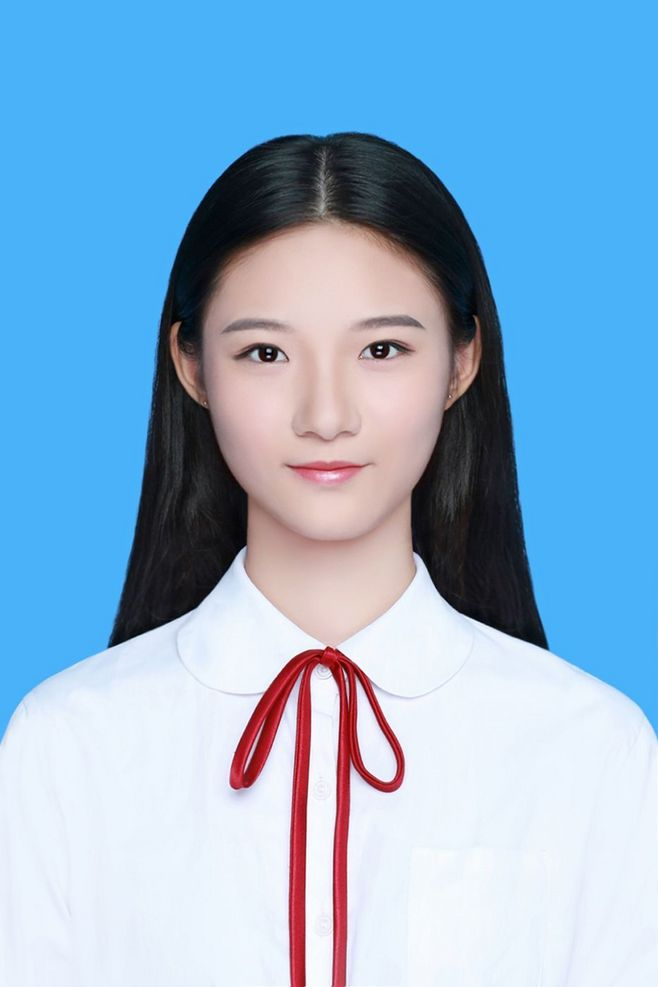unmask: (210, 245, 433, 534)
